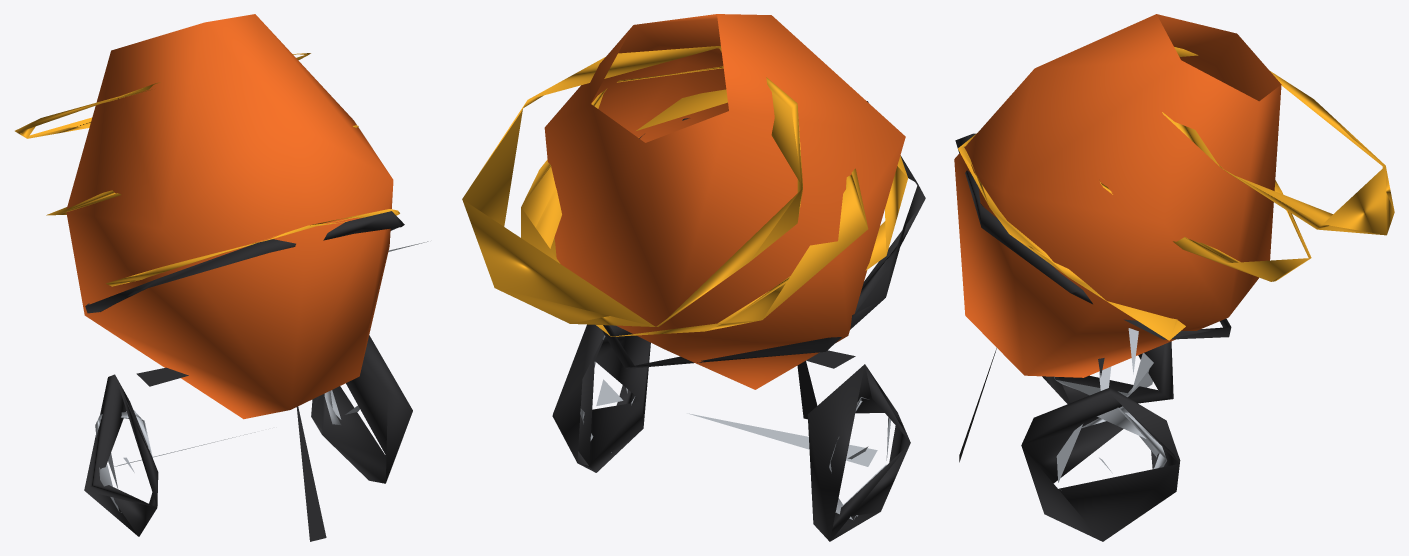
File: lod_cement_mixer.glb
The picture shows the model from 3 angles, left to right: view 1: azimuth 30°, elevation 25°; view 2: azimuth 150°, elevation 25°; view 3: azimuth 270°, elevation 25°; orthographic projection. The views are drawn at different scales.
Visible parts, largest first — view 1: cement_mixer; view 2: cement_mixer; view 3: cement_mixer.
Part boxes in pixels (x1,y1,x2,y2): cement_mixer: (15, 14, 428, 541); cement_mixer: (462, 14, 925, 541); cement_mixer: (954, 14, 1394, 541).
Size of the model in its own units: 1.4 by 1.76 by 1.52.
